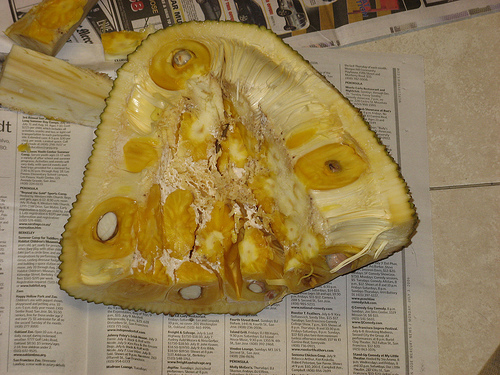jackfruit: (50, 19, 420, 319)
